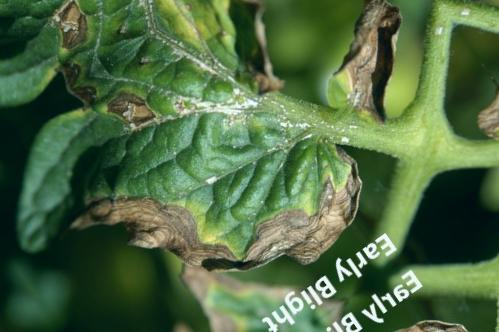Tomato Early blight leaf: (42, 0, 463, 332)
